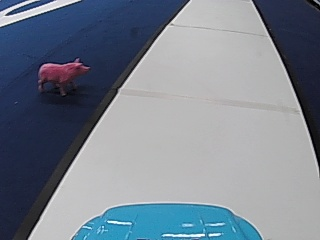pig: (35, 55, 90, 94)
